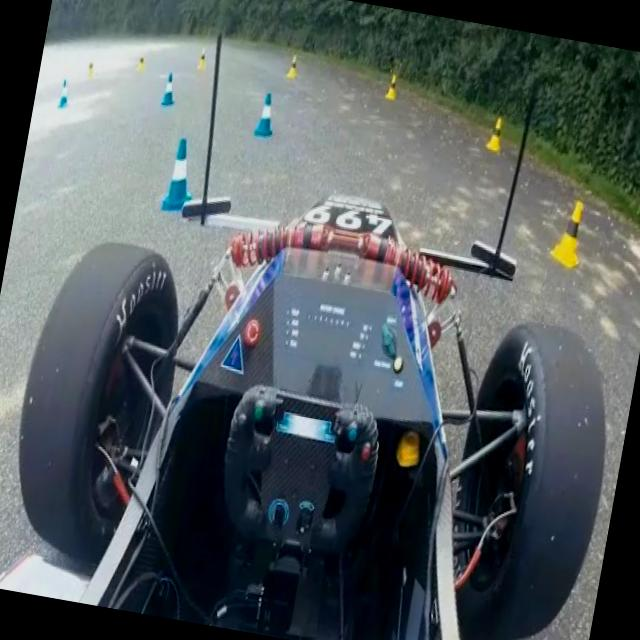blue_cone: (159, 136, 201, 217), (252, 90, 280, 140), (160, 72, 178, 108), (56, 78, 72, 110)
yellow_cone: (548, 198, 589, 268), (486, 115, 506, 152), (384, 73, 400, 100), (286, 54, 301, 80), (196, 46, 209, 70)
